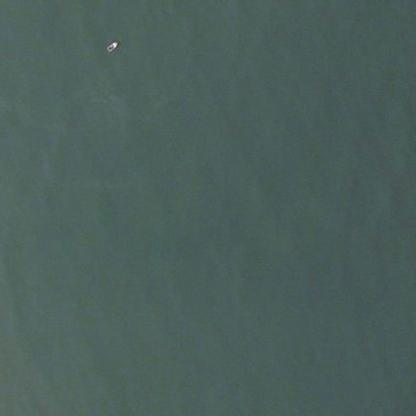ship: (102, 38, 124, 54)
